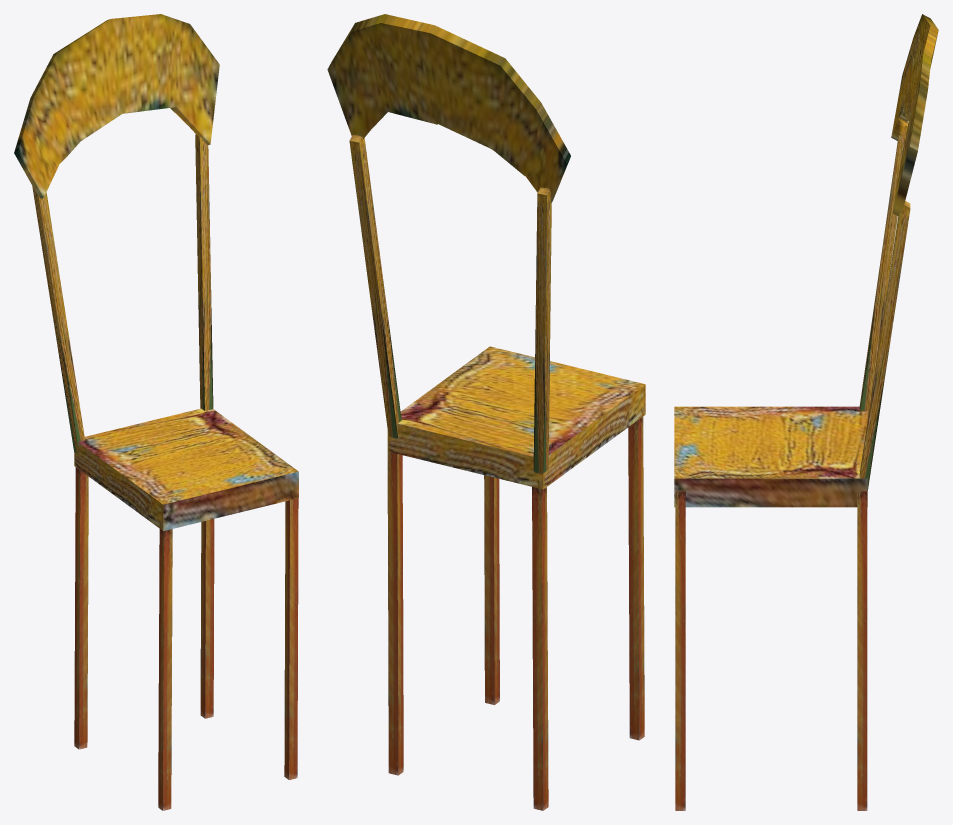
The model's file is chair_003.fbx.
The picture shows the model from 3 angles, left to right: view 1: azimuth 30°, elevation 25°; view 2: azimuth 150°, elevation 25°; view 3: azimuth 270°, elevation 25°; orthographic projection. The views are drawn at different scales.
Parts seen in each view (by area): view 1: chair_003; view 2: chair_003; view 3: chair_003.
Boxes of the visible parts, x1,y1,x2,y2 form: chair_003: (14, 14, 298, 810); chair_003: (327, 14, 645, 810); chair_003: (674, 14, 938, 810).
Bounding box in the file's own units: 28.64 × 91.95 × 29.44.
